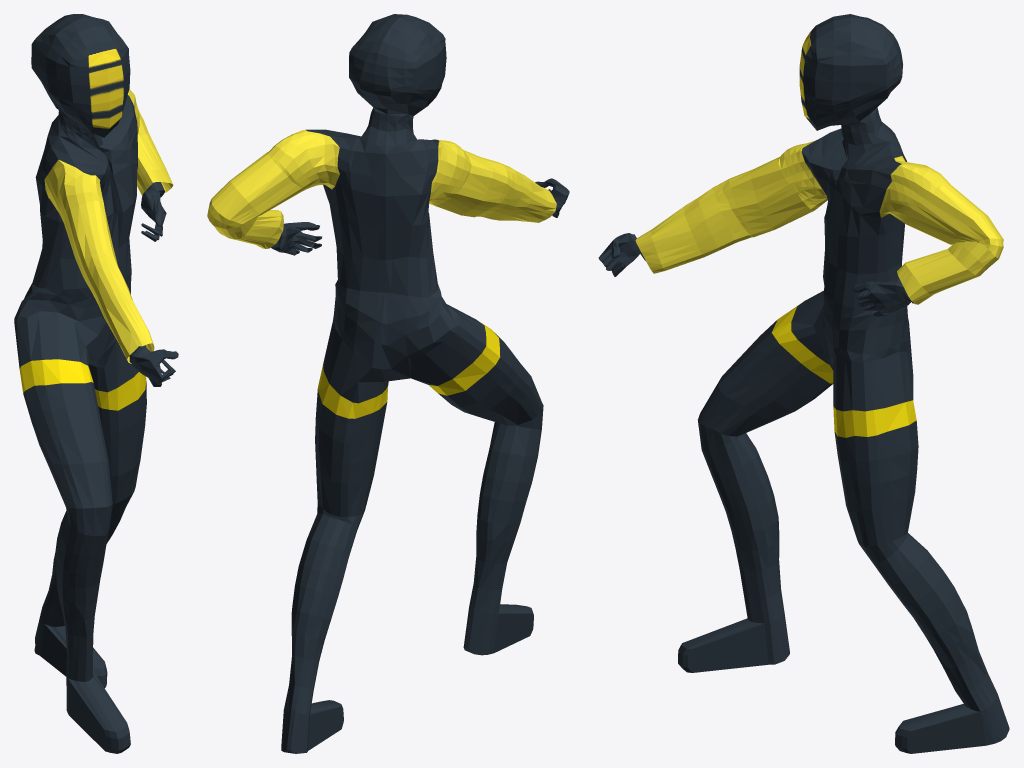
The model's file is Sentry_WB_000009.obj.
The picture shows the model from 3 angles, left to right: view 1: azimuth 30°, elevation 25°; view 2: azimuth 150°, elevation 25°; view 3: azimuth 270°, elevation 25°; orthographic projection.
Parts seen in each view (by area): view 1: Cube; view 2: Cube; view 3: Cube.
Boxes of the visible parts, box(x1,y1,x2,y2) form: Cube: box(14, 14, 178, 753); Cube: box(207, 14, 569, 753); Cube: box(598, 14, 1009, 753).
Bounding box in the file's own units: 1.18 × 3.84 × 2.01.
